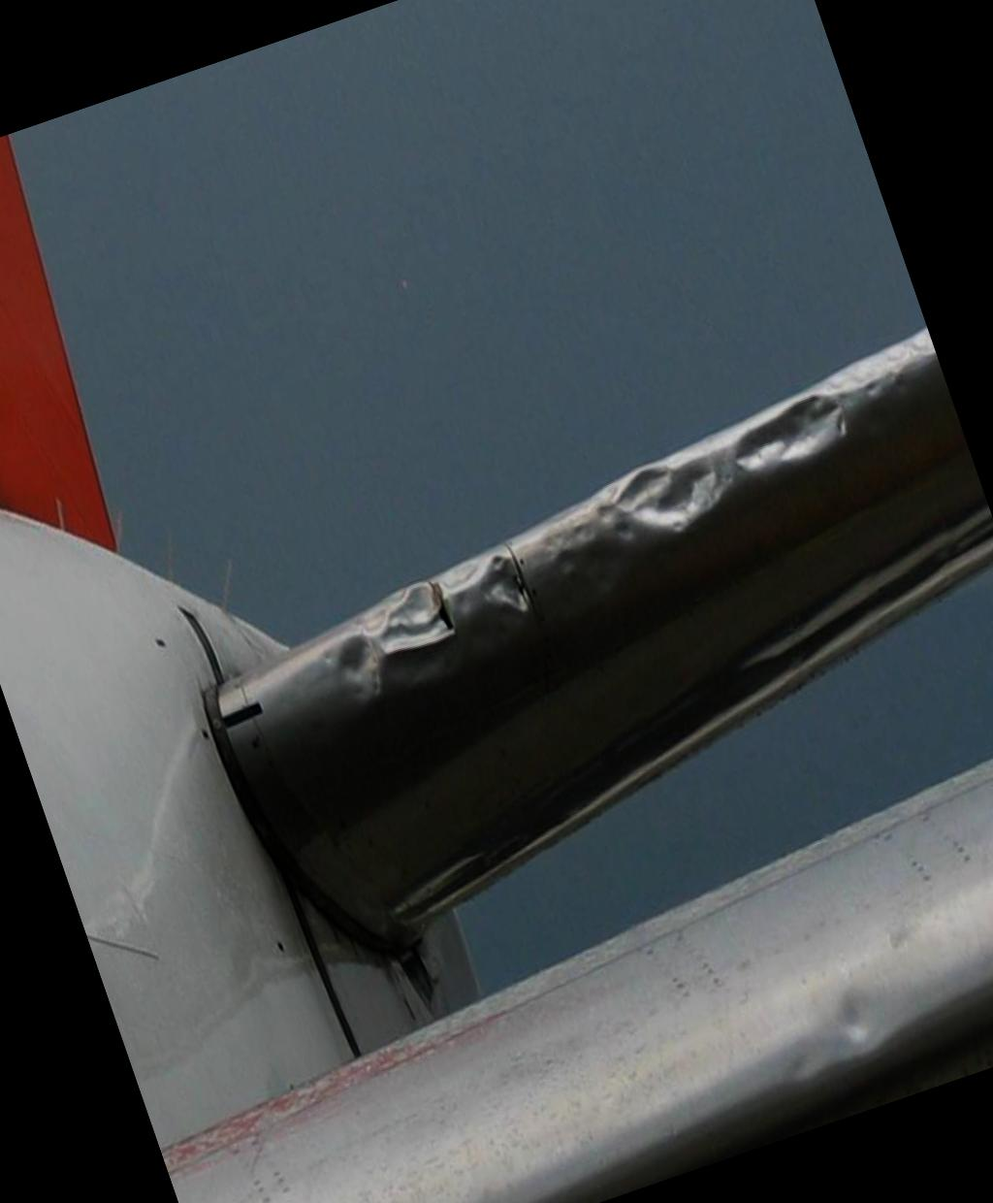crack: (490, 541, 543, 621), (419, 569, 463, 644)
dent: (604, 439, 729, 553), (726, 383, 853, 483), (360, 569, 460, 673), (320, 626, 396, 707)
